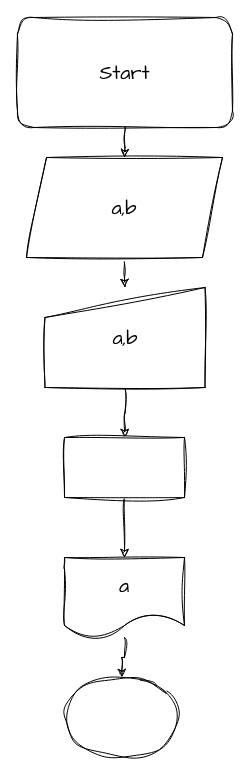
The diagram is 250 pixels wide and 775 high, and some of its shapes have lost their labels. Here are the shapes that lost their labels. From the top down, the centre of each, then its label:
the point at 124,467: a+=b
the point at 121,717: End
